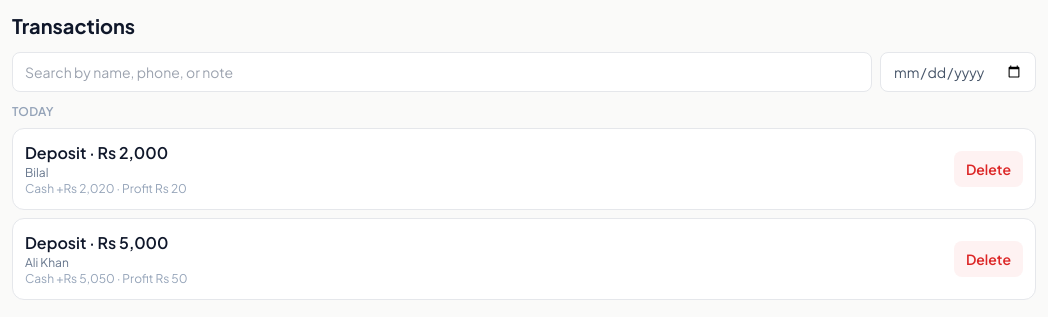
Scenario: Transactions › filters by search query
In the field with placeholder "Search by name, phone, or note": (442, 72) [12,52,872,92], type "ali"
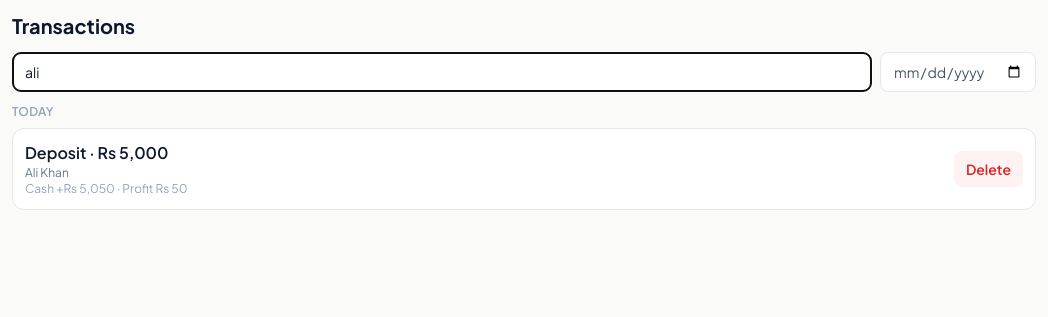
Expected: the text "Ali Khan" is shown, [25,165,69,180]
Now the text "Bilal" is gone
